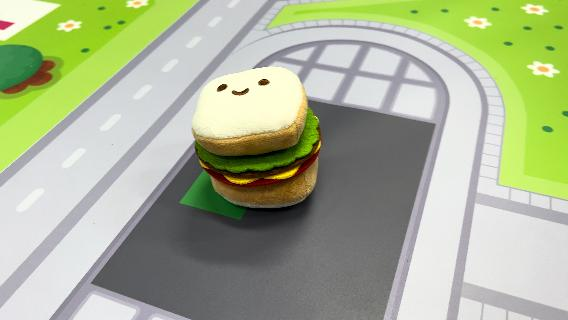sandwich: (190, 64, 324, 210)
